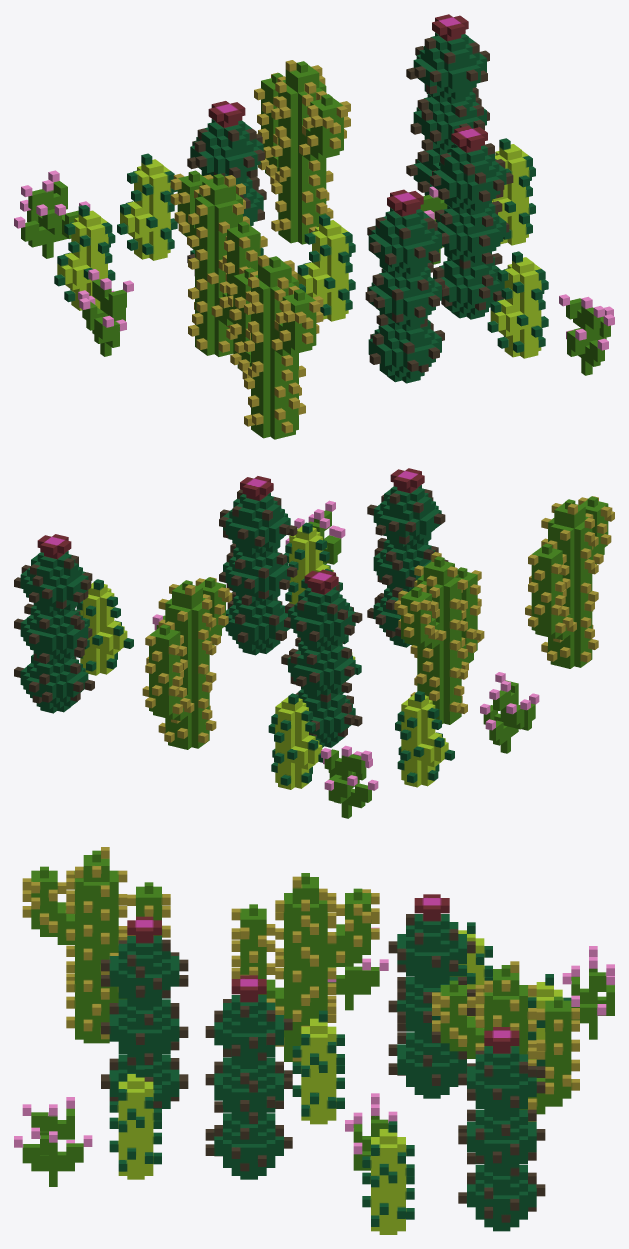
Rendered from cacti_2_overtile.glb.
3 renders of one model, top to bottom at view 1: azimuth 30°, elevation 25°; view 2: azimuth 150°, elevation 25°; view 3: azimuth 270°, elevation 25°, orthographic. The views are drawn at different scales.
Parts seen in each view (by area): view 1: cacti_2_overtile; view 2: cacti_2_overtile; view 3: cacti_2_overtile.
Boxes of the visible parts, box(x1,y1,x2,y2) form: cacti_2_overtile: box(14, 14, 614, 439); cacti_2_overtile: box(14, 468, 614, 818); cacti_2_overtile: box(14, 847, 614, 1234).
Size of the model in its own units: 6.7 by 2.4 by 6.9.
Materials: 1 (1 with a texture image).
